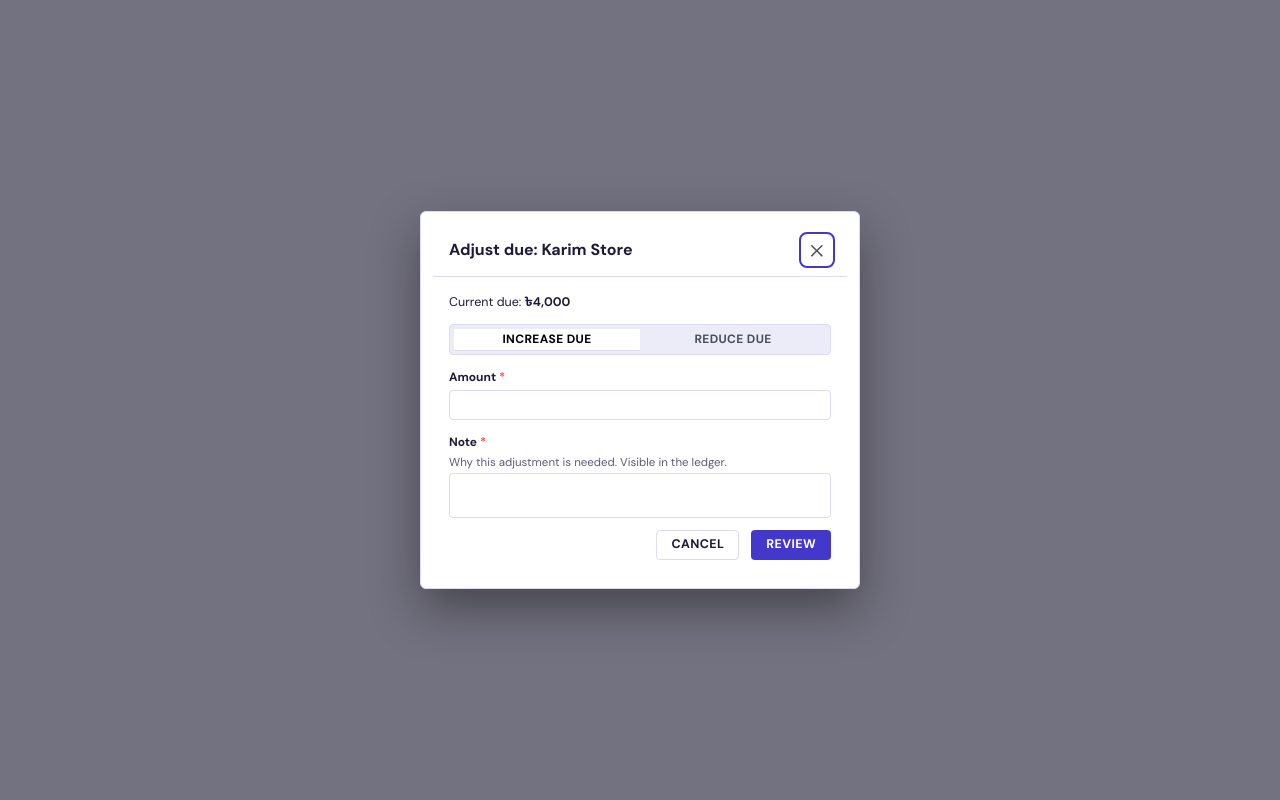
Test case: AdjustModal › blocks an empty amount or note
Click the button "Review": (791, 544) [751, 530, 831, 560]
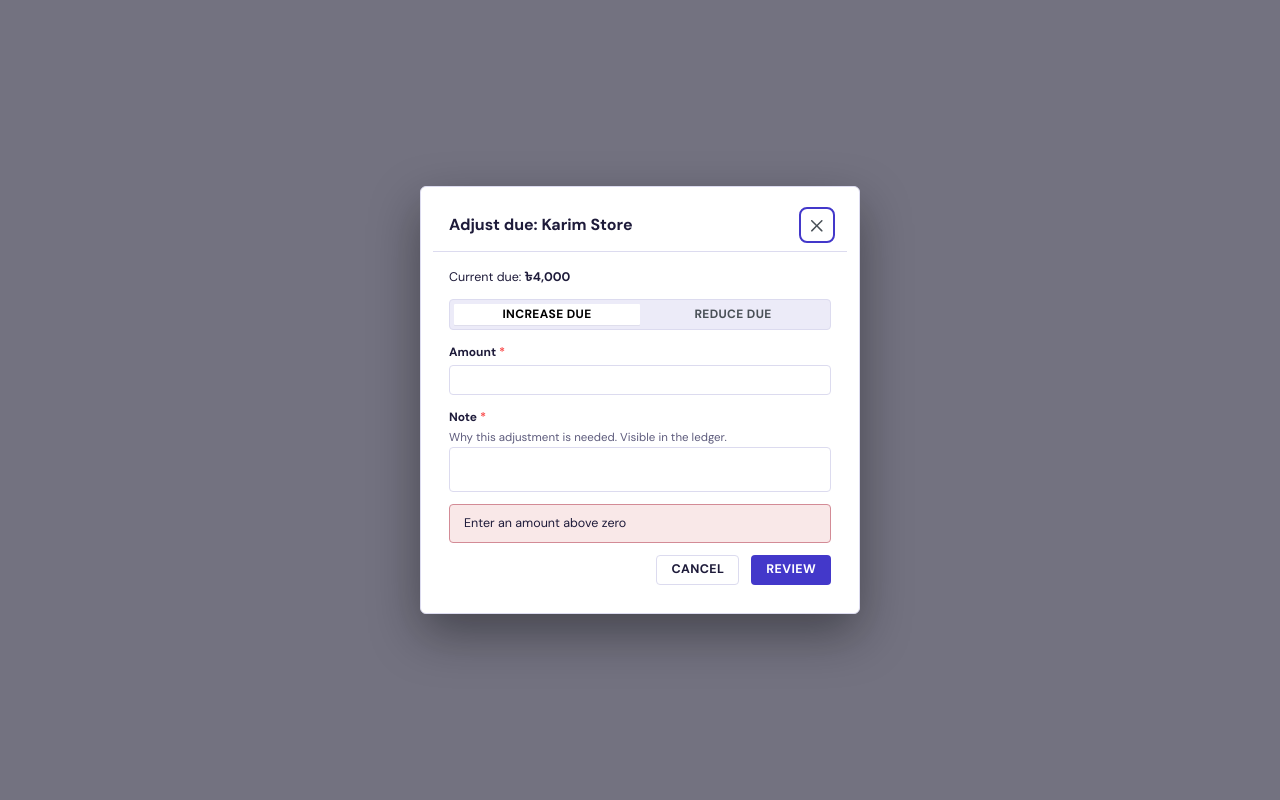
Result: the text "Enter an amount above zero" is shown at [464, 516, 626, 532]
In the field labelled "Amount *": (640, 380) [449, 365, 831, 395], type "50"
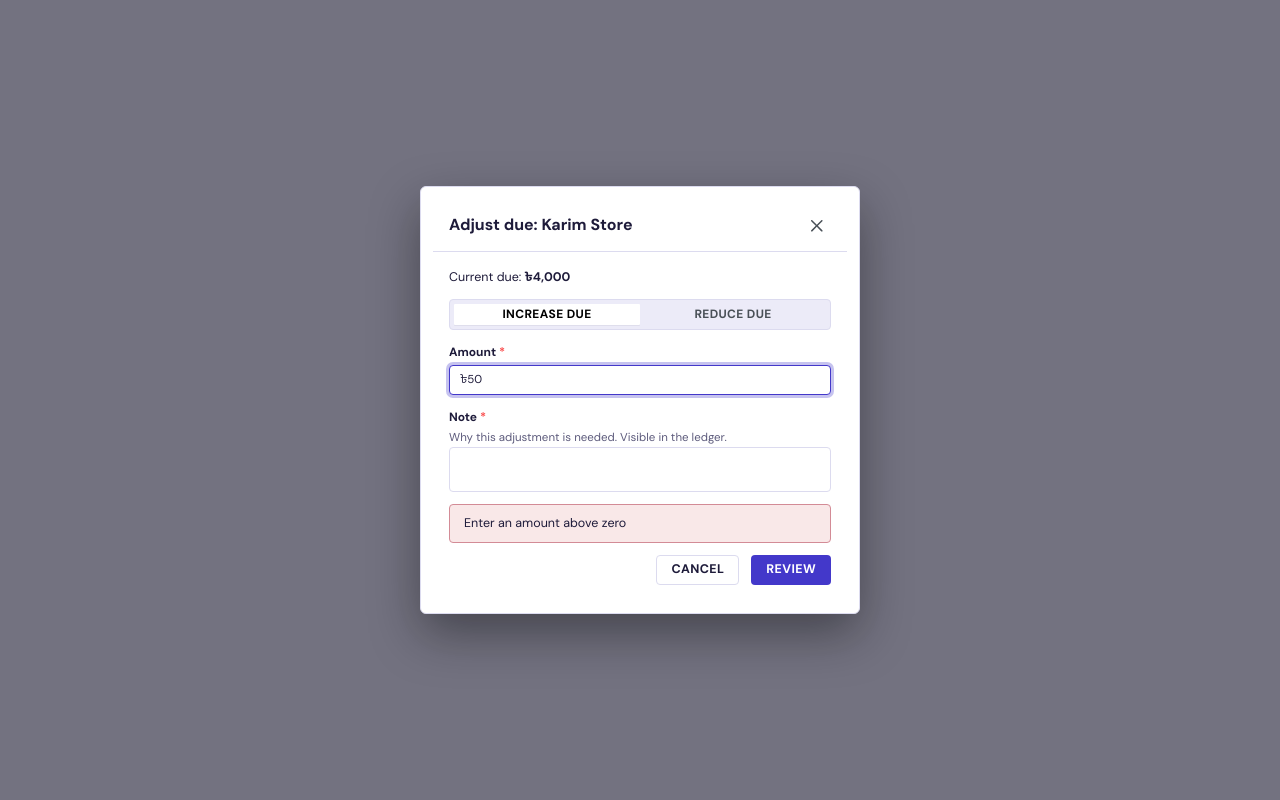
Click the button "Review": (791, 570) [751, 555, 831, 585]
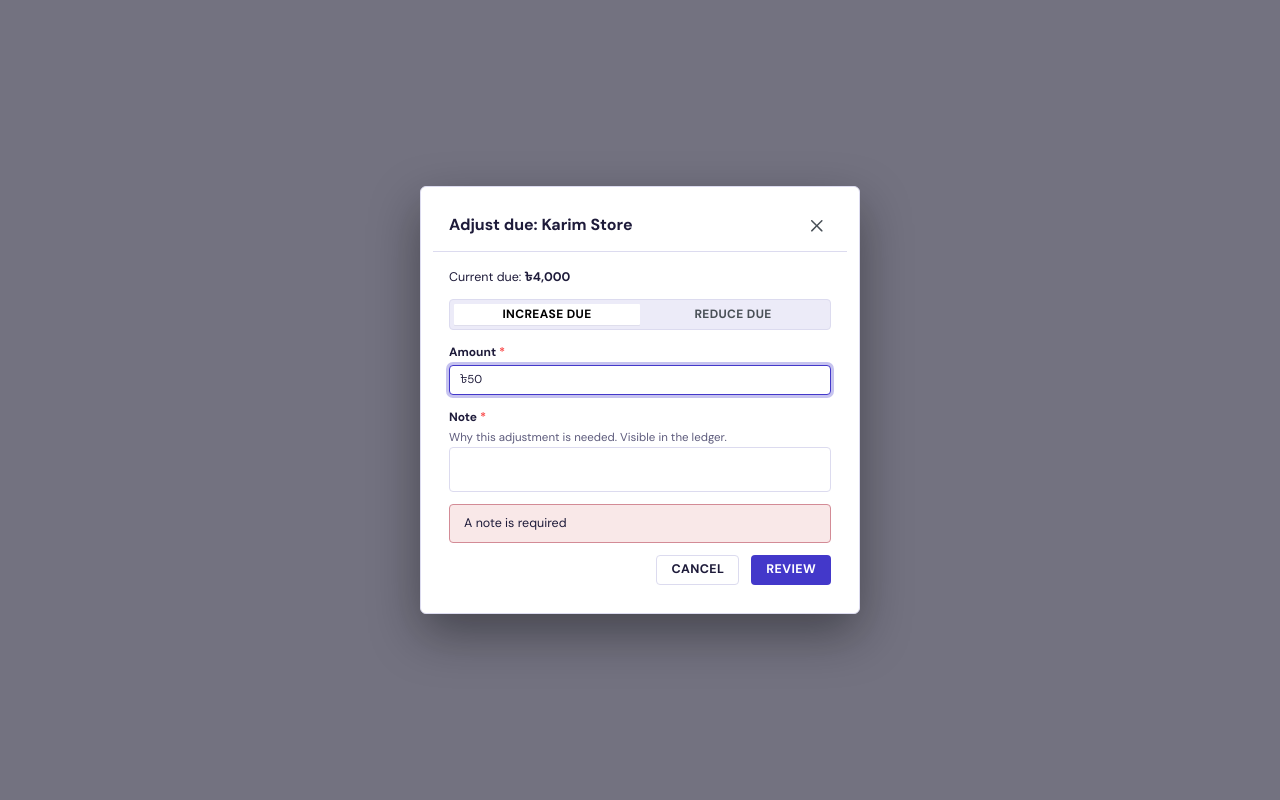
Result: the text "A note is required" is shown at [464, 516, 566, 532]
